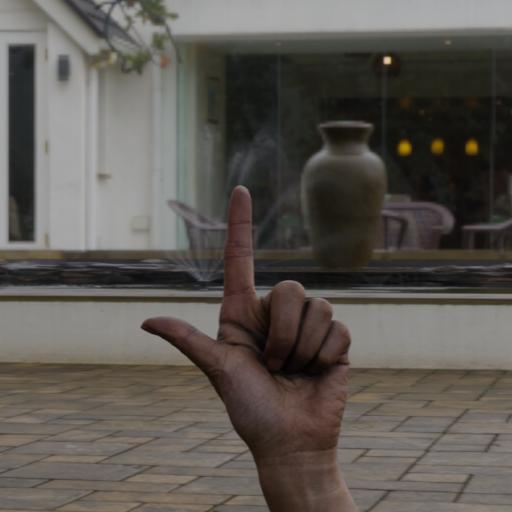L: (137, 181, 352, 456)
